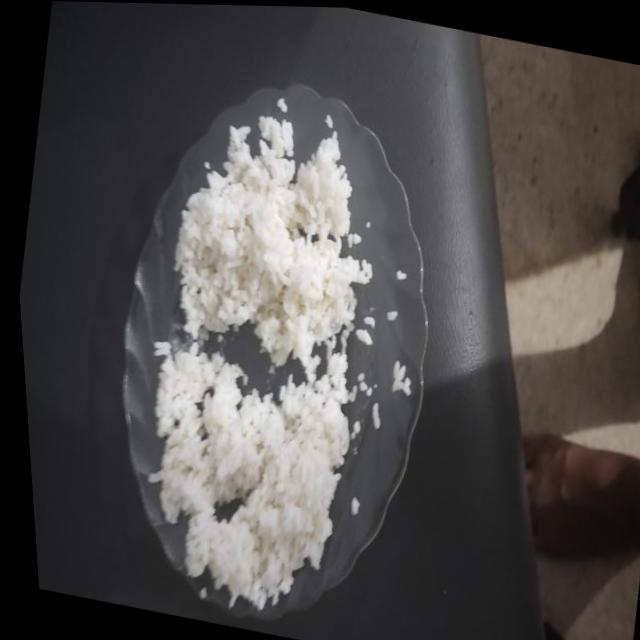nasi_putih: (148, 342, 351, 605), (174, 116, 372, 367)
